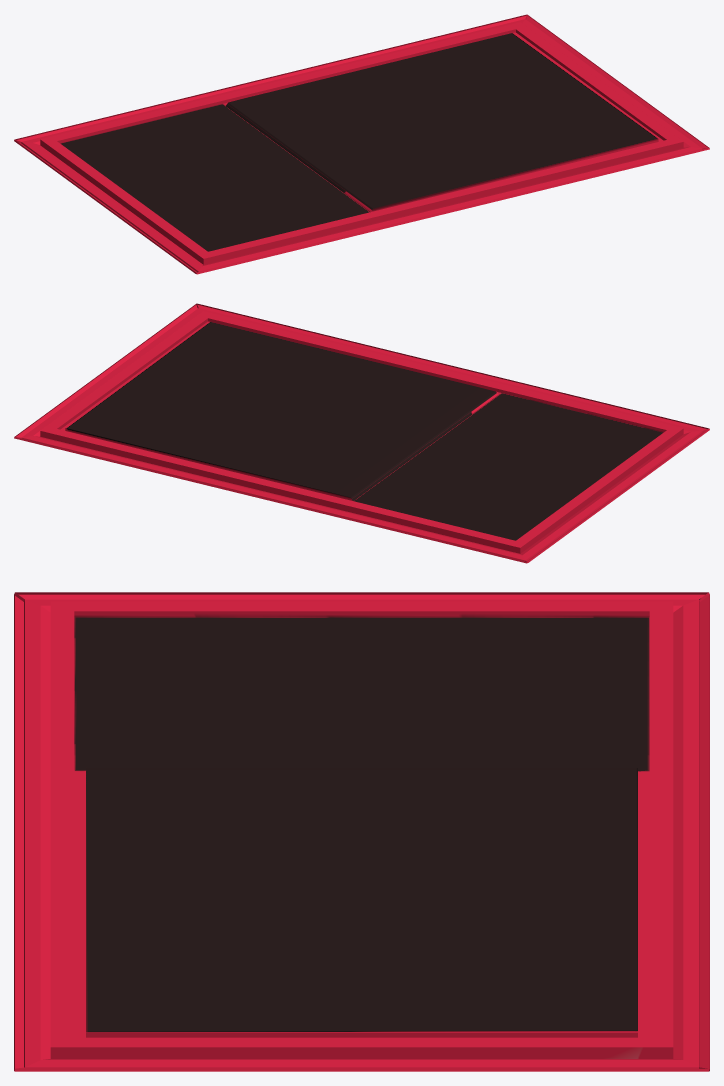
The model's file is Card(1).fbx.
3 views of the same model, one above another, from view 1: azimuth 30°, elevation 25°; view 2: azimuth 150°, elevation 25°; view 3: azimuth 270°, elevation 25° (orthographic). The views are drawn at different scales.
Visible parts, largest first — view 1: Plan; view 2: Plan; view 3: Plan.
Part boxes in pixels (x1,y1,x2,y2): Plan: (14, 14, 709, 274); Plan: (14, 303, 709, 563); Plan: (14, 592, 709, 1071).
Size of the model in its own units: 456 by 5.25 by 281.
1 material, 1 textured.
